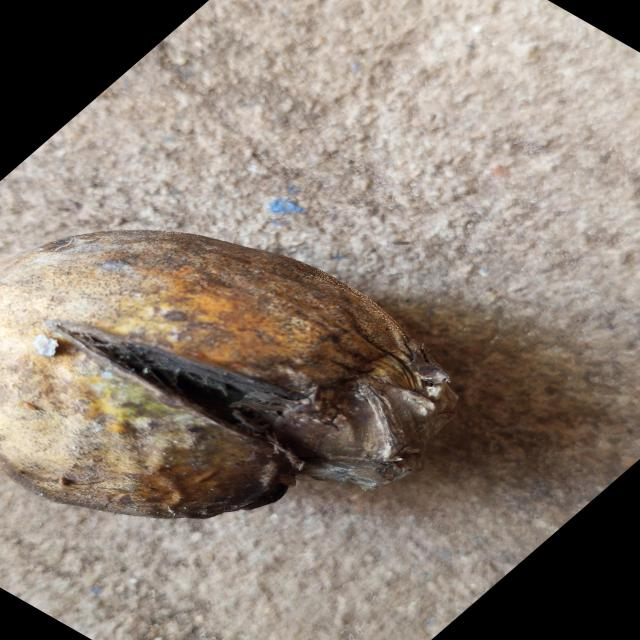damaged: (0, 226, 473, 523)
